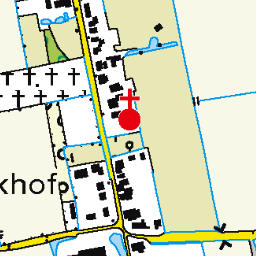church: (115, 87, 145, 134)
